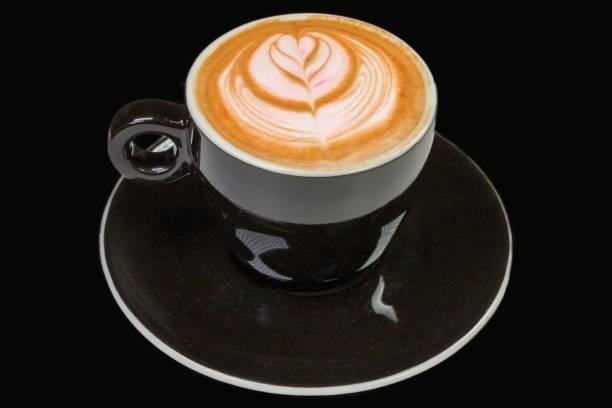cup-handle: (108, 10, 439, 293)
